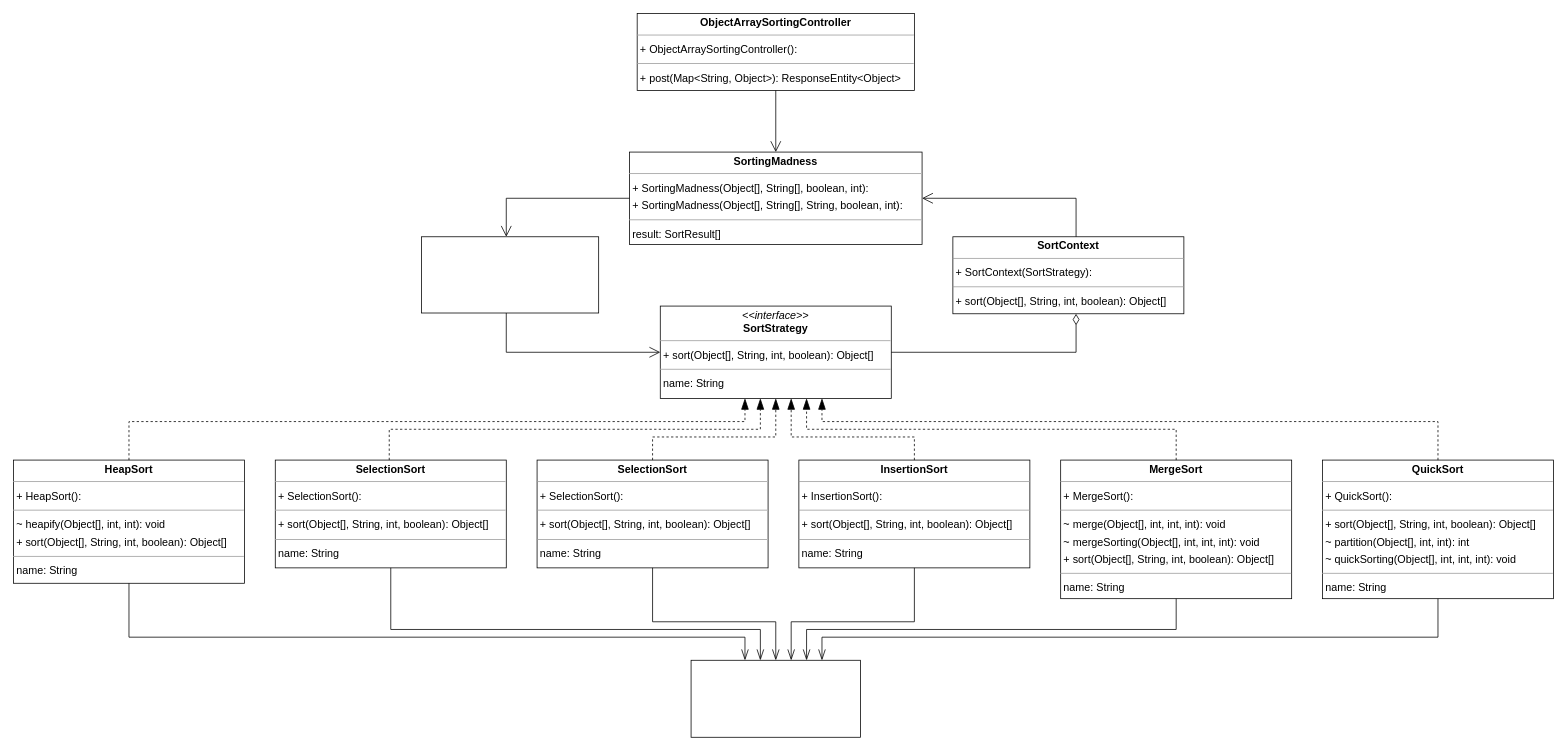
The diagram is 1567 pixels wide and 751 high, and some of its shapes have lost their labels. The shapes that lost their labels are listed below. From the top down, each one's centre as x and y in pixels, then its label:
At point 510,274: "SortingWrapper + SortingWrapper(): + getSorter(String): SortStrategy".
At point 775,698: "Comparator ~ Comparator(String): + compareTo(Object, Object): int".
